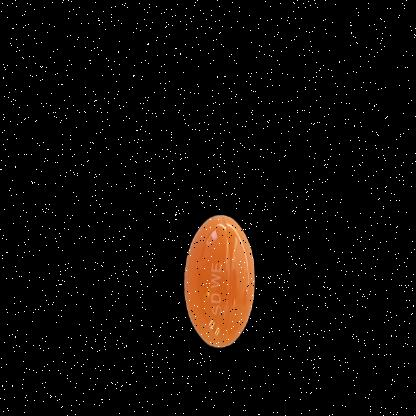welood: (133, 179, 286, 373)
